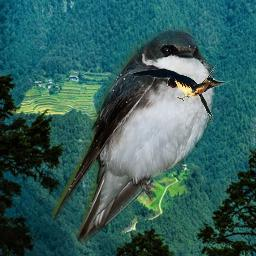Swallow: (52, 22, 220, 244), (129, 63, 244, 123)
